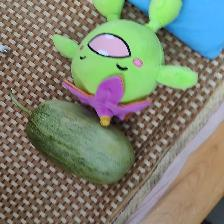gua: (30, 109, 129, 172)
